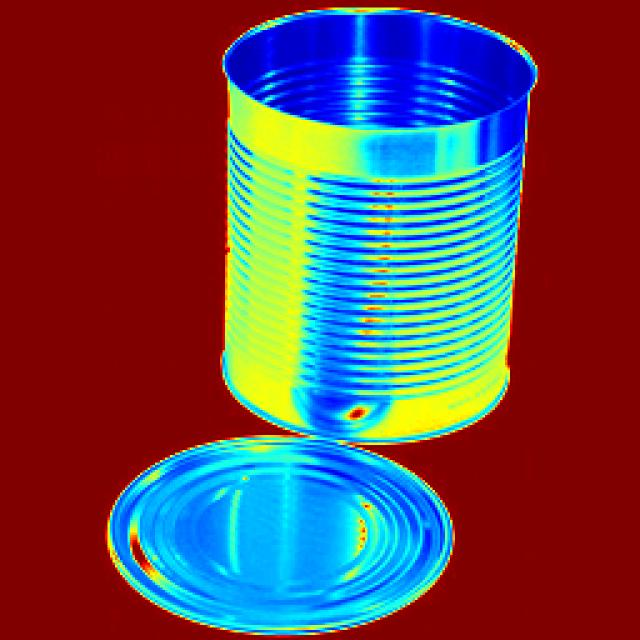Aluminium Food Cans: (198, 11, 573, 632)
